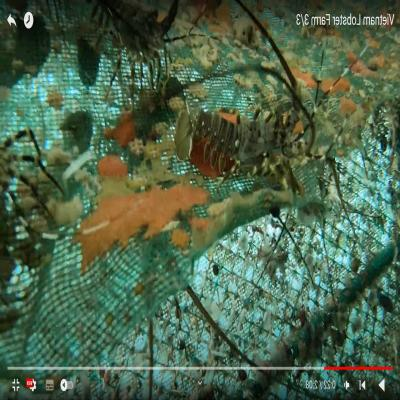lobster: (183, 89, 302, 193), (93, 4, 175, 73)
